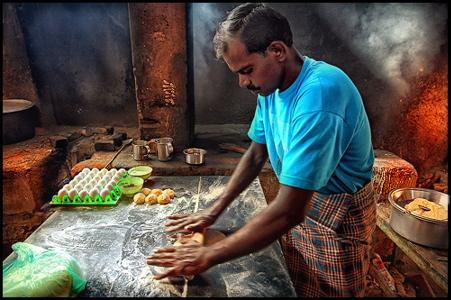person: (148, 2, 382, 298)
